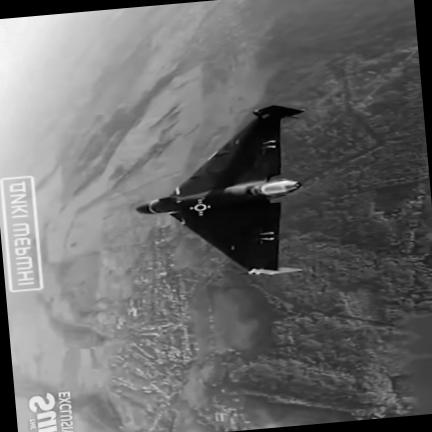Shahed: (136, 105, 303, 275)
